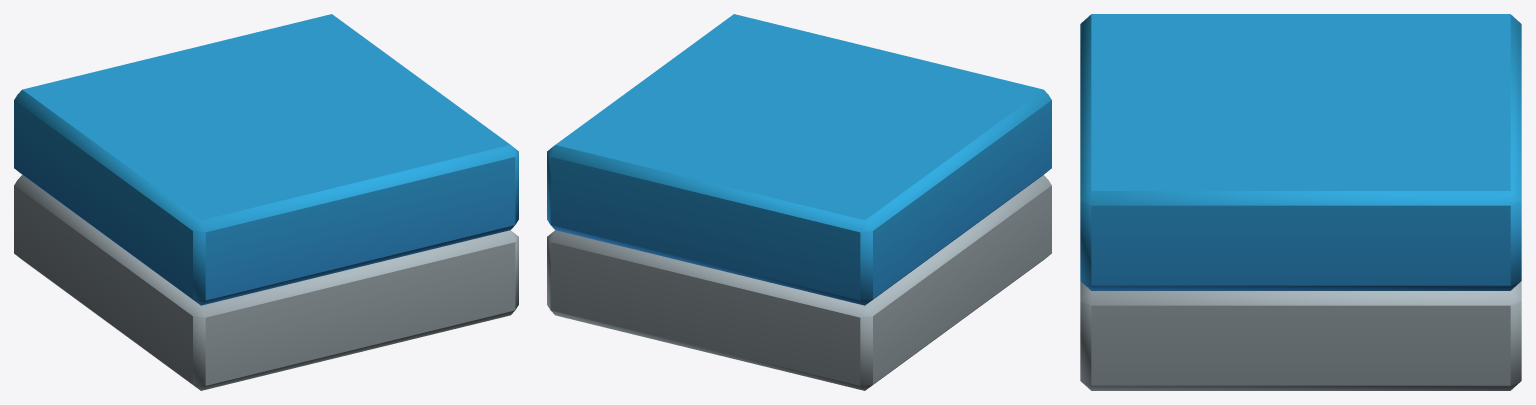
The model's file is platform-2x2x1-blue.glb.
The picture shows the model from 3 angles, left to right: view 1: azimuth 30°, elevation 25°; view 2: azimuth 150°, elevation 25°; view 3: azimuth 270°, elevation 25°; orthographic projection. The views are drawn at different scales.
Parts seen in each view (by area): view 1: platform_2x2x1_blue; view 2: platform_2x2x1_blue; view 3: platform_2x2x1_blue.
Boxes of the visible parts, x1,y1,x2,y2 form: platform_2x2x1_blue: [14, 14, 518, 390]; platform_2x2x1_blue: [547, 14, 1051, 390]; platform_2x2x1_blue: [1080, 14, 1521, 390].
Size of the model in its own units: 2 by 1 by 2.
1 material, 1 textured.
